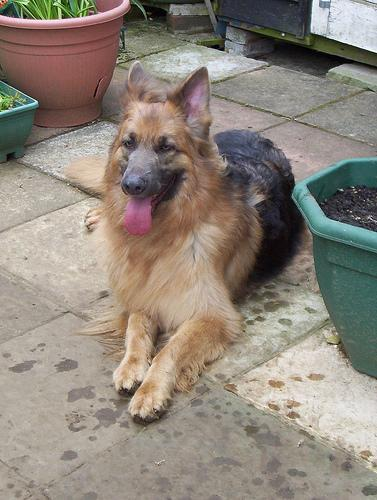German_shepherd: (58, 58, 308, 427)
